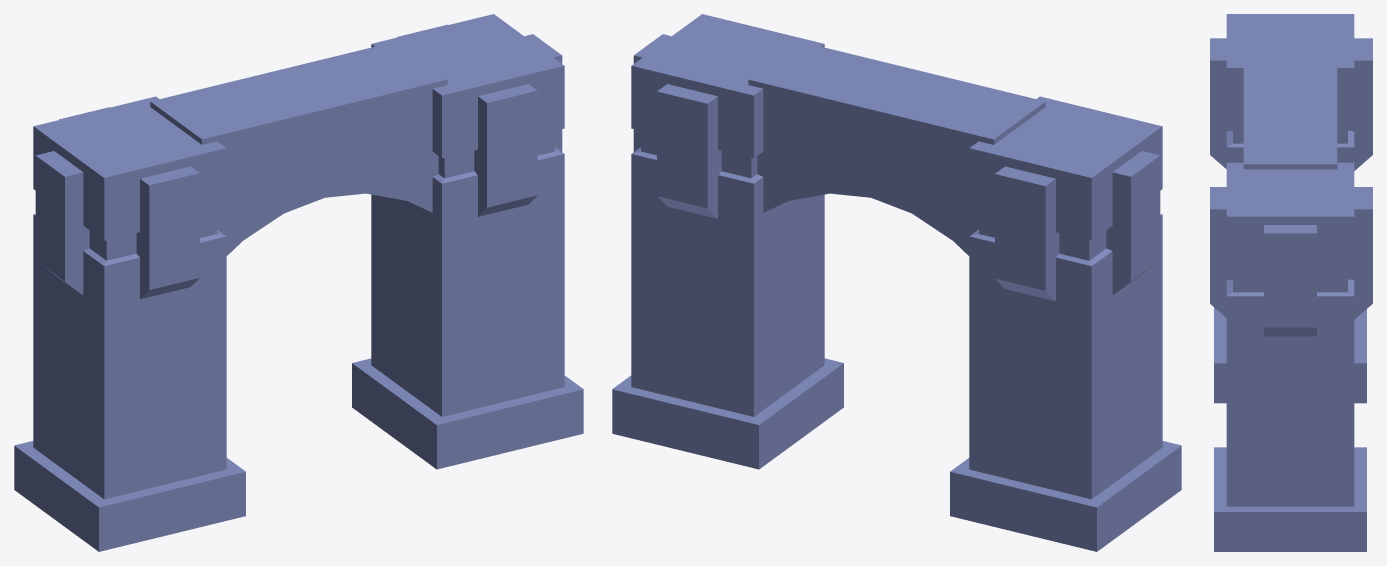
Rendered from bridge_1_column_small.fbx.
3 renders of one model, left to right at view 1: azimuth 30°, elevation 25°; view 2: azimuth 150°, elevation 25°; view 3: azimuth 270°, elevation 25°, orthographic. The views are drawn at different scales.
Visible parts, largest first — view 1: bridge_1_column_small; view 2: bridge_1_column_small; view 3: bridge_1_column_small.
Part boxes in pixels (left/top/right/bottom): bridge_1_column_small: left=14, top=14, right=583, bottom=551; bridge_1_column_small: left=612, top=14, right=1181, bottom=551; bridge_1_column_small: left=1210, top=14, right=1372, bottom=551.
Size of the model in its own units: 11.78 by 8.4 by 3.7.
